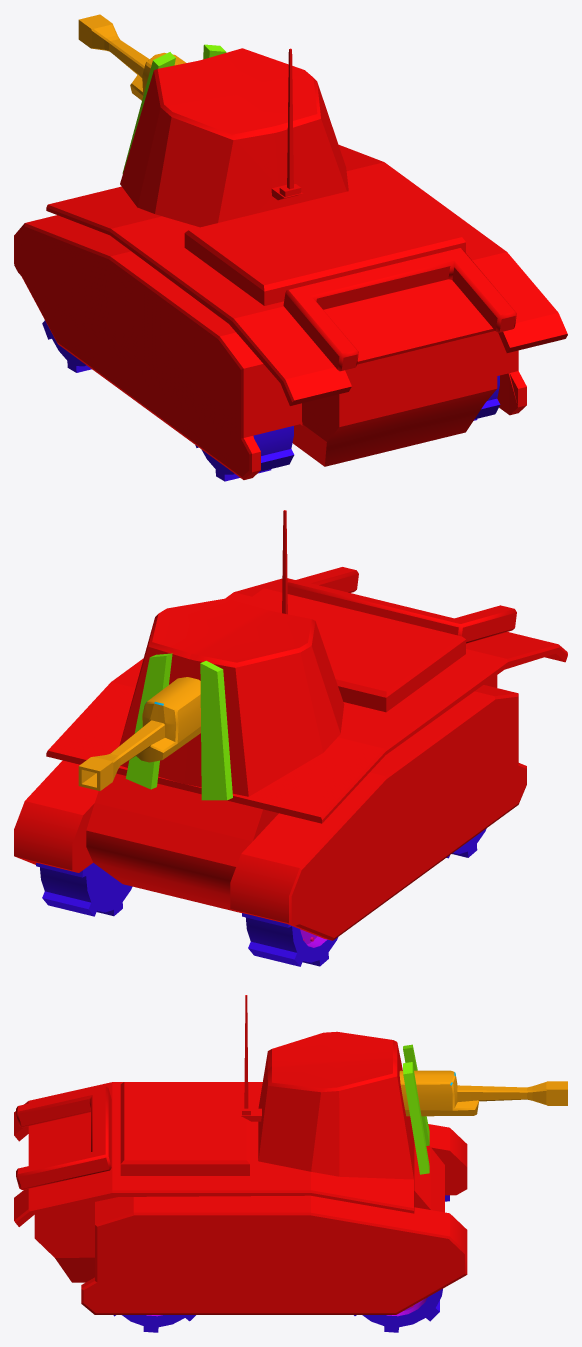
The model's file is 105-cm-lefh-18-3-auf-geschutzwagen-b-2-f.fbx.
The picture shows the model from 3 angles, top to bottom: view 1: azimuth 30°, elevation 25°; view 2: azimuth 150°, elevation 25°; view 3: azimuth 270°, elevation 25°; orthographic projection. The views are drawn at different scales.
Parts seen in each view (by area): view 1: 105-cm-lefh-18-3-auf-geschutzwagen-b-2-f_Body, 105-cm-lefh-18-3-auf-geschutzwagen-b-2-f_Tower, 105-cm-lefh-18-3-auf-geschutzwagen-b-2-f_Exhaust, 105-cm-lefh-18-3-auf-geschutzwagen-b-2-f_Canon, 105-cm-lefh-18-3-auf-geschutzwagen-b-2-f_Wheel, 105-cm-lefh-18-3-auf-geschutzwagen-b-2-f_TowerGuard; view 2: 105-cm-lefh-18-3-auf-geschutzwagen-b-2-f_Body, 105-cm-lefh-18-3-auf-geschutzwagen-b-2-f_Tower, 105-cm-lefh-18-3-auf-geschutzwagen-b-2-f_Wheel (×2), 105-cm-lefh-18-3-auf-geschutzwagen-b-2-f_TowerGuard, 105-cm-lefh-18-3-auf-geschutzwagen-b-2-f_Canon, 105-cm-lefh-18-3-auf-geschutzwagen-b-2-f_Exhaust; view 3: 105-cm-lefh-18-3-auf-geschutzwagen-b-2-f_Body, 105-cm-lefh-18-3-auf-geschutzwagen-b-2-f_Tower, 105-cm-lefh-18-3-auf-geschutzwagen-b-2-f_Exhaust, 105-cm-lefh-18-3-auf-geschutzwagen-b-2-f_Canon, 105-cm-lefh-18-3-auf-geschutzwagen-b-2-f_Wheel (×2), 105-cm-lefh-18-3-auf-geschutzwagen-b-2-f_TowerGuard.
Part boxes in pixels (x1,y1,x2,y2): 105-cm-lefh-18-3-auf-geschutzwagen-b-2-f_Body: (14, 145, 567, 479); 105-cm-lefh-18-3-auf-geschutzwagen-b-2-f_Tower: (120, 48, 348, 227); 105-cm-lefh-18-3-auf-geschutzwagen-b-2-f_Exhaust: (283, 248, 516, 371); 105-cm-lefh-18-3-auf-geschutzwagen-b-2-f_Canon: (78, 14, 185, 100); 105-cm-lefh-18-3-auf-geschutzwagen-b-2-f_Wheel: (195, 426, 294, 481); 105-cm-lefh-18-3-auf-geschutzwagen-b-2-f_TowerGuard: (122, 44, 226, 173); 105-cm-lefh-18-3-auf-geschutzwagen-b-2-f_Body: (14, 578, 567, 940); 105-cm-lefh-18-3-auf-geschutzwagen-b-2-f_Tower: (119, 510, 344, 796); 105-cm-lefh-18-3-auf-geschutzwagen-b-2-f_Wheel (×2): (36, 863, 338, 966); 105-cm-lefh-18-3-auf-geschutzwagen-b-2-f_TowerGuard: (125, 653, 232, 800); 105-cm-lefh-18-3-auf-geschutzwagen-b-2-f_Canon: (78, 677, 200, 790); 105-cm-lefh-18-3-auf-geschutzwagen-b-2-f_Exhaust: (287, 567, 516, 643); 105-cm-lefh-18-3-auf-geschutzwagen-b-2-f_Body: (14, 1082, 467, 1314); 105-cm-lefh-18-3-auf-geschutzwagen-b-2-f_Tower: (240, 995, 413, 1179); 105-cm-lefh-18-3-auf-geschutzwagen-b-2-f_Exhaust: (16, 1086, 111, 1189); 105-cm-lefh-18-3-auf-geschutzwagen-b-2-f_Canon: (399, 1070, 567, 1116); 105-cm-lefh-18-3-auf-geschutzwagen-b-2-f_Wheel (×2): (113, 1289, 442, 1332); 105-cm-lefh-18-3-auf-geschutzwagen-b-2-f_TowerGuard: (403, 1044, 429, 1174).
Bounding box in the file's own units: 2.14 × 2.62 × 4.56.
